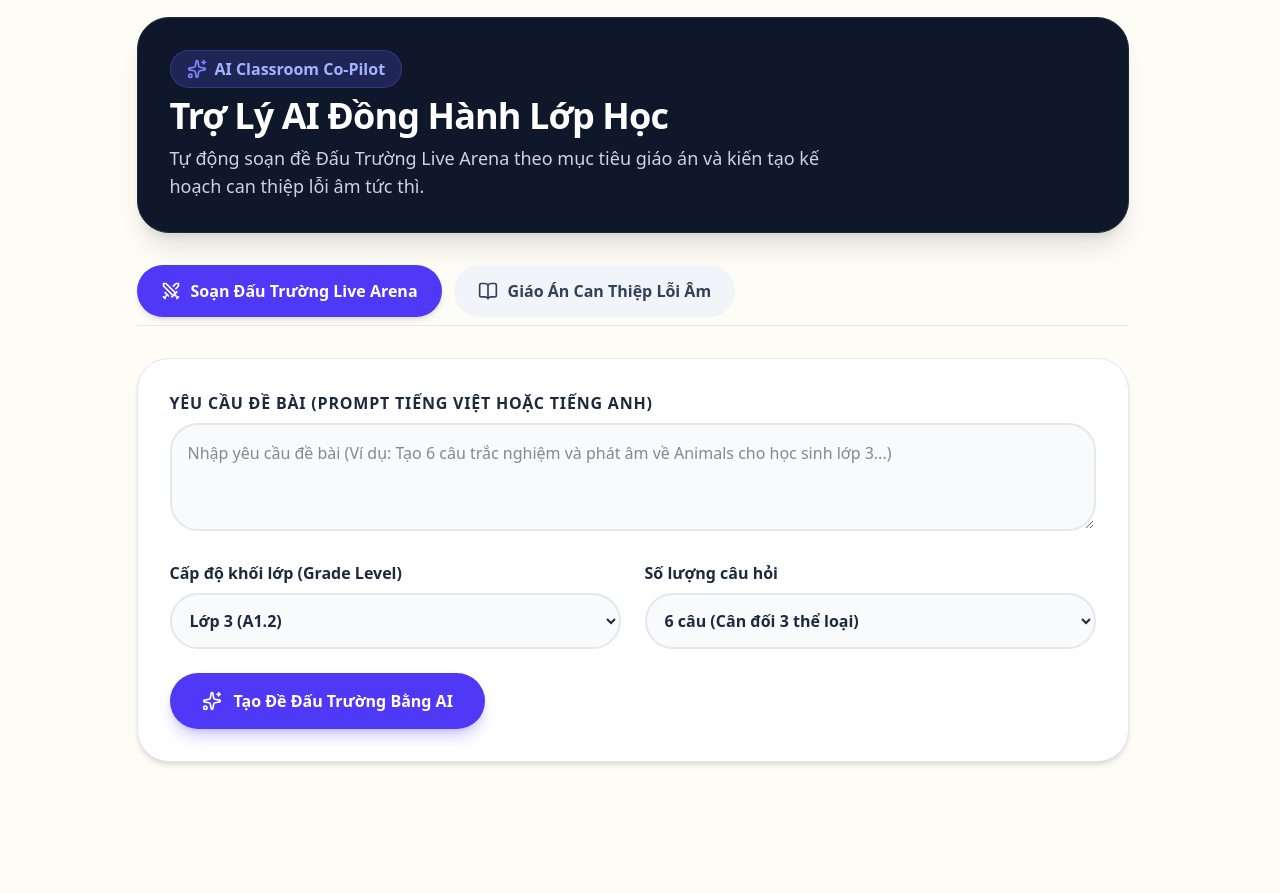
Test case: AiClassroomCopilot Component › generates arena questions when submitting prompt and displays polymorphic badges
Replace the text in the text box with placeholder "Nhập yêu cầu đề bài" with "Tạo 5 câu về Animals lớp 3" at (632, 477), box [170, 423, 1096, 531]
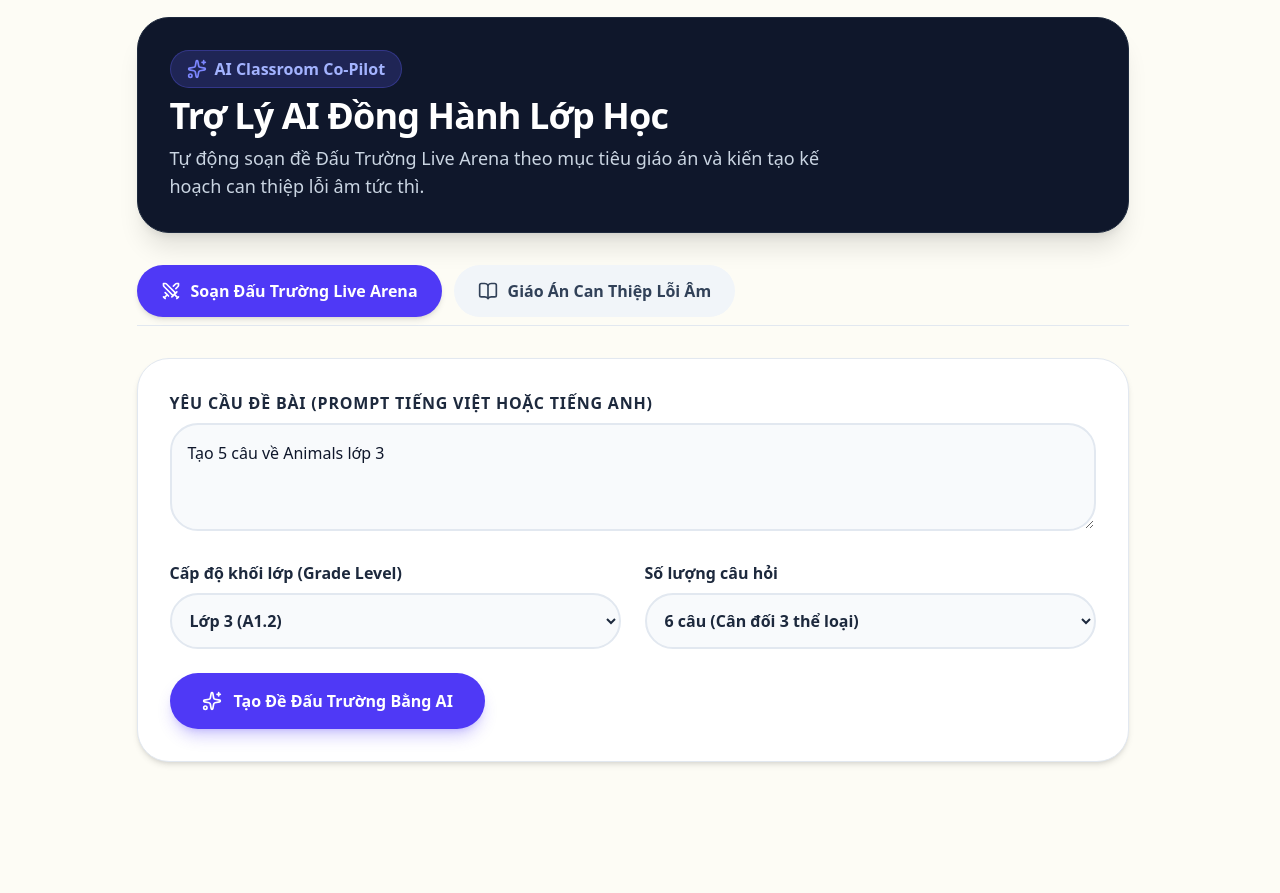
Click the button "Tạo Đề Đấu Trường Bằng AI" at (327, 701), box [170, 673, 485, 729]
(page scrolled)
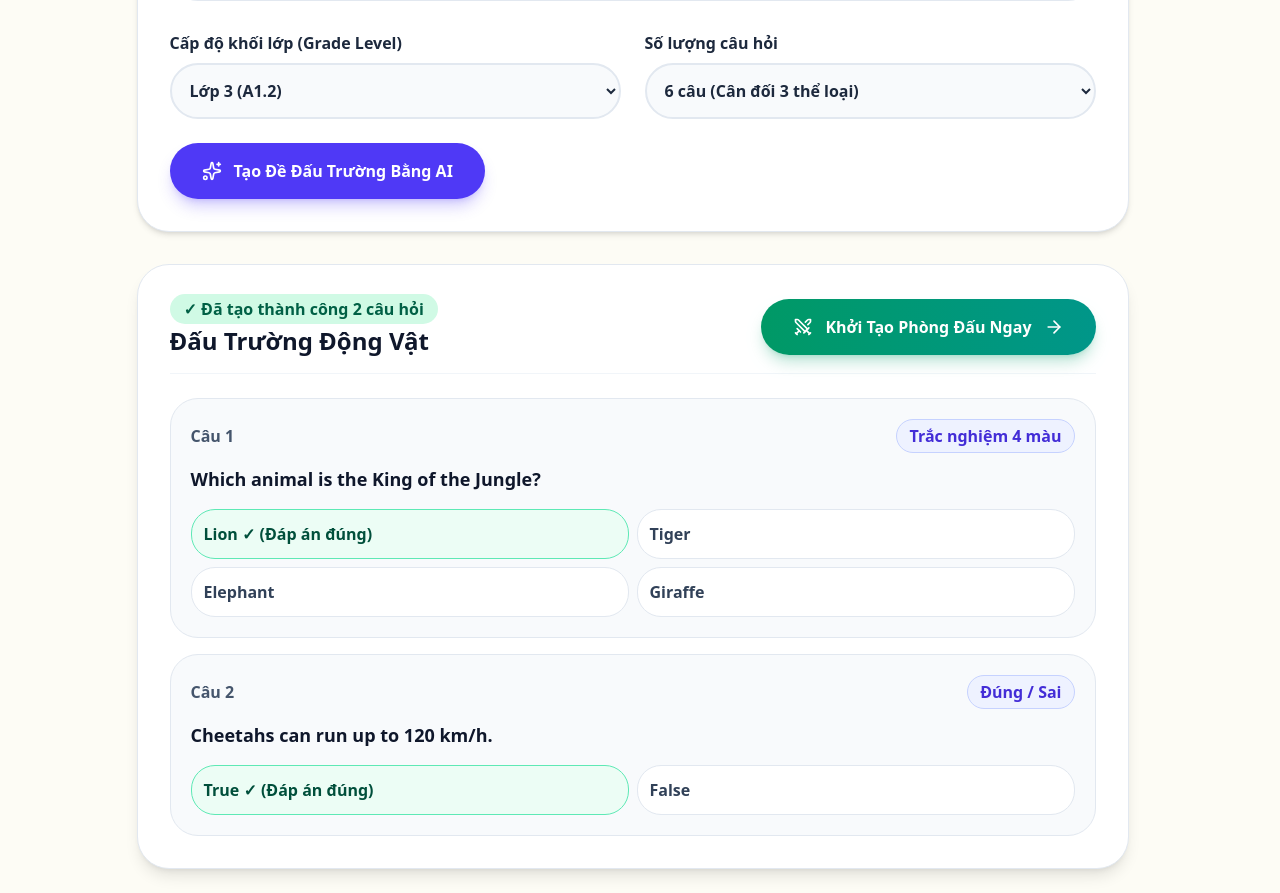
expect the heading "Which animal is the King of the Jungle?" is shown: met, box [190, 467, 541, 491]
expect the heading "Cheetahs can run up to 120 km/h." is shown: met, box [190, 723, 493, 747]
